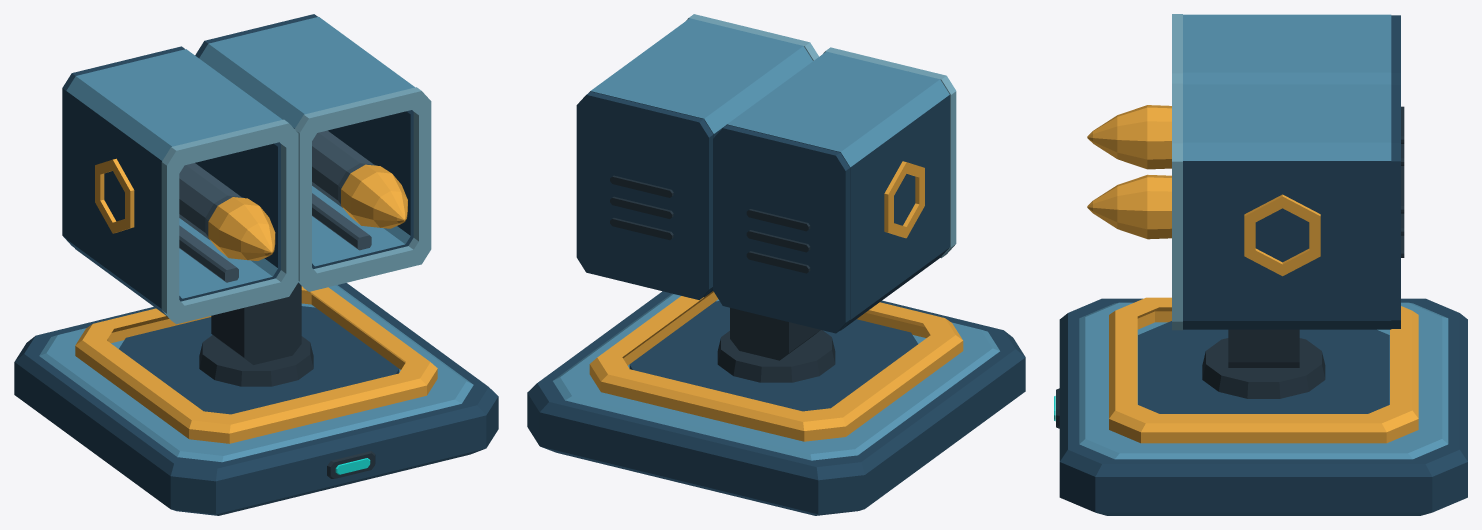
The model's file is Missile2.obj.
3 views of the same model, side by side, from view 1: azimuth 30°, elevation 25°; view 2: azimuth 150°, elevation 25°; view 3: azimuth 270°, elevation 25° (orthographic). The views are drawn at different scales.
Visible parts, largest first — view 1: SquareFoundation, LauncherHousing_L, GoldPlatformRing, TopArmor_L, TopArmor_R, InnerDeck, UpperDeck, BlueFrontRim_L, BlueFrontRim_R, Support, LauncherHousing_R, Bearing (+10 smaller); view 2: SquareFoundation, RearArmor_L, RearArmor_R, GoldPlatformRing, LauncherHousing_L, TopArmor_L, TopArmor_R, InnerDeck, UpperDeck, Bearing, Support, BlueFrontRim_L (+8 smaller); view 3: LauncherHousing_R, SquareFoundation, TopArmor_R, GoldPlatformRing, TopArmor_L, UpperDeck, InnerDeck, Bearing, Warhead_L, Warhead_R, Support, BlueFrontRim_R (+4 smaller).
Boxes of the visible parts, x1=… form: SquareFoundation: x1=14, y1=283, x2=498, y2=515; LauncherHousing_L: x1=66, y1=91, x2=280, y2=316; GoldPlatformRing: x1=75, y1=286, x2=437, y2=443; TopArmor_L: x1=66, y1=49, x2=282, y2=298; TopArmor_R: x1=199, y1=16, x2=414, y2=266; InnerDeck: x1=119, y1=306, x2=399, y2=414; UpperDeck: x1=39, y1=285, x2=473, y2=462; BlueFrontRim_L: x1=161, y1=119, x2=298, y2=324; BlueFrontRim_R: x1=295, y1=87, x2=431, y2=291; Support: x1=211, y1=283, x2=301, y2=364; LauncherHousing_R: x1=294, y1=110, x2=413, y2=283; Bearing: x1=199, y1=335, x2=313, y2=386; SquareFoundation: x1=527, y1=291, x2=1025, y2=515; RearArmor_L: x1=713, y1=125, x2=849, y2=333; RearArmor_R: x1=576, y1=91, x2=713, y2=300; GoldPlatformRing: x1=589, y1=291, x2=963, y2=441; LauncherHousing_L: x1=726, y1=95, x2=949, y2=330; TopArmor_L: x1=727, y1=51, x2=949, y2=167; TopArmor_R: x1=591, y1=18, x2=812, y2=133; InnerDeck: x1=629, y1=301, x2=917, y2=411; UpperDeck: x1=553, y1=293, x2=999, y2=460; Bearing: x1=717, y1=330, x2=835, y2=382; Support: x1=730, y1=308, x2=820, y2=360; BlueFrontRim_L: x1=823, y1=47, x2=956, y2=258; LauncherHousing_R: x1=1183, y1=161, x2=1391, y2=329; SquareFoundation: x1=1059, y1=298, x2=1467, y2=515; TopArmor_R: x1=1183, y1=84, x2=1391, y2=160; GoldPlatformRing: x1=1109, y1=297, x2=1418, y2=443; TopArmor_L: x1=1183, y1=14, x2=1391, y2=84; UpperDeck: x1=1079, y1=302, x2=1448, y2=459; InnerDeck: x1=1138, y1=321, x2=1389, y2=413; Bearing: x1=1202, y1=338, x2=1325, y2=398; Warhead_L: x1=1087, y1=105, x2=1171, y2=169; Warhead_R: x1=1087, y1=174, x2=1171, y2=239; Support: x1=1228, y1=329, x2=1299, y2=367; BlueFrontRim_R: x1=1172, y1=83, x2=1182, y2=330.
Size of the model in its own units: 2.18 by 2.1 by 2.21.
